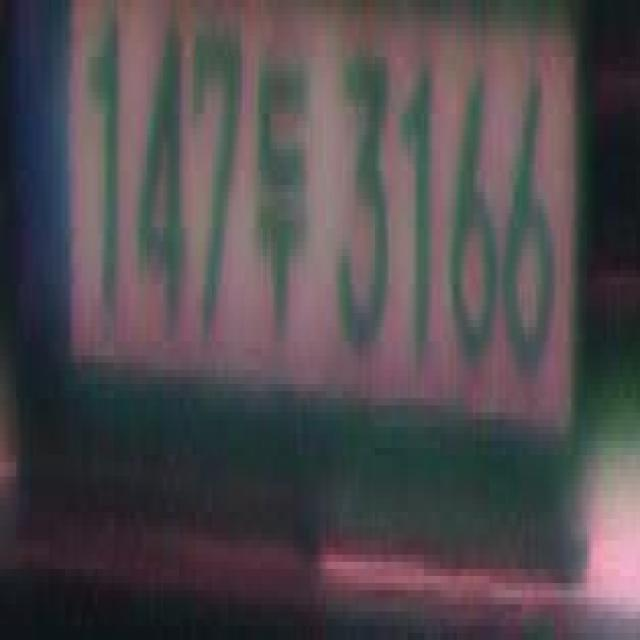illegal_plate: (8, 0, 612, 532)
